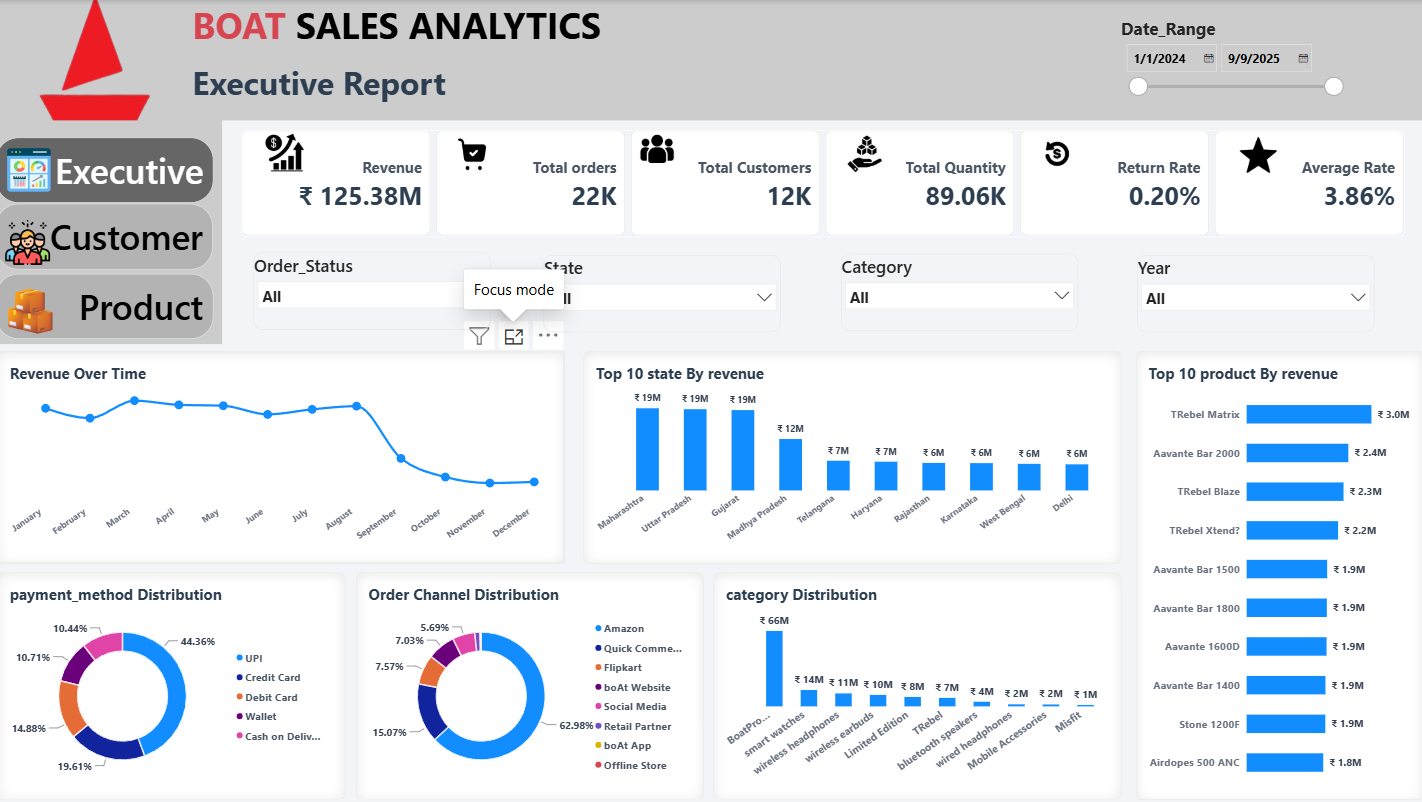

Layout of this report page (visuals, bound fields, positions):
{"tool":"powerbi","page":{"name":"Executive Analysis","canvas":[1920,1080],"ordinal":0},"visuals":[{"type":"shape","box":[14.5,0,1905.6,161.1],"z":0,"group":"g1"},{"type":"cardVisual","fields":{"Data":["Executive KPI's.Revenue","Executive KPI's.Total_order","Executive KPI's.Total_Customer's","Executive KPI's.Total_Qty","Executive KPI's.Return_Rate","Executive KPI's.Avg_Rating"]},"box":[340.2,173.7,1554.5,143],"z":0},{"type":"actionButton","box":[12.7,365.6,290,87],"z":0,"group":"g2"},{"type":"group","id":"g1","title":"Group 1","box":[14.5,0,1905.6,459.7],"z":1000},{"type":"shape","box":[14.5,0,300.4,459.7],"z":1000,"group":"g1"},{"type":"actionButton","box":[13.1,183.1,290,87],"z":1000,"group":"g2"},{"type":"image","box":[14.5,0,260.6,161.1],"z":2000,"group":"g1"},{"type":"image","box":[21,196.9,71,59.8],"z":2000,"group":"g2"},{"type":"lineChart","title":"Revenue Over Time","fields":{"Y":["Executive KPI's.Revenue"],"Category":["Calendar.Month"]},"box":[14.5,468.7,758.2,284.1],"z":2000},{"type":"image","box":[18.7,293.3,71,59.8],"z":3000,"group":"g2"},{"type":"clusteredColumnChart","title":"category Distribution","fields":{"Category":["Product.category"],"Y":["Executive KPI's.Revenue"]},"box":[971.8,765.5,544.7,304],"z":3000},{"type":"image","box":[18.7,384.9,78.5,59.8],"z":4000,"group":"g2"},{"type":"clusteredBarChart","title":"Top 10 product By revenue","fields":{"Category":["Product.product_name"],"Y":["Executive KPI's.Revenue"]},"box":[1536.4,468.7,383.6,600.8],"z":4000},{"type":"clusteredColumnChart","title":"Top 10 state By revenue","fields":{"Category":["Boat Customer.state"],"Y":["Executive KPI's.Revenue"]},"box":[798.1,468.7,718.4,284.1],"z":5000},{"type":"donutChart","title":"payment_method Distribution","fields":{"Y":["Executive KPI's.Revenue"],"Category":["Order_Boat.payment_method"]},"box":[14.5,765.5,465.1,304],"z":6000},{"type":"donutChart","title":"Order Channel Distribution","fields":{"Y":["Executive KPI's.Revenue"],"Category":["Order_Boat.Order_Channel"]},"box":[494,765.5,465.1,304],"z":7000},{"type":"textbox","box":[275.1,0,608,94.1],"z":8000},{"type":"textbox","box":[275.1,79.6,608,94.1],"z":9000},{"type":"image","box":[608,181,83,50],"z":10000},{"type":"image","box":[356.5,179.2,83.2,50.7],"z":11000},{"type":"image","box":[854.2,173.7,83,50],"z":12000},{"type":"image","box":[1132.8,181,83,50],"z":13000},{"type":"image","box":[1389.8,181,83,50],"z":14000},{"type":"image","box":[1657.6,182.8,83,50],"z":15000},{"type":"actionButton","box":[13.1,272.7,289.6,87.8],"z":16000},{"type":"slicer","title":"Date_Range","fields":{"Values":["Calendar.Date"]},"box":[1516.9,22.4,300.8,115.8],"z":17000},{"type":"group","id":"g2","title":"Group 2","box":[12.7,183.1,290.4,269.5],"z":18000},{"type":"slicer","title":"Order_Status","fields":{"Values":["Order_Boat.order_status"]},"box":[356.5,336.6,316.7,103.2],"z":19000},{"type":"slicer","title":"State","fields":{"Values":["Boat Customer.state"]},"box":[744.4,340.2,316.7,103.2],"z":20000},{"type":"slicer","title":"Category","fields":{"Values":["Product.category"]},"box":[1141.3,338.4,316.7,103.2],"z":21000},{"type":"slicer","title":"Year","fields":{"Values":["Calendar.Year"]},"box":[1538.2,340.2,316.7,103.2],"z":22000}]}

Visuals, with their boxes in screenshot pixels (x1, y1, x2, y2), scaled from the page's 1920x1080 canvas onto the 1422x802 screenshot:
shape: (11, 0, 1421, 120)
cardVisual - Executive KPI's.Revenue x Executive KPI's.Total_order: (252, 129, 1403, 235)
actionButton: (9, 271, 224, 336)
"Group 1" group: (11, 0, 1421, 341)
shape: (11, 0, 233, 341)
actionButton: (10, 136, 224, 201)
image: (11, 0, 204, 120)
image: (16, 146, 68, 191)
"Revenue Over Time" lineChart: (11, 348, 572, 559)
image: (14, 218, 66, 262)
"category Distribution" clusteredColumnChart: (720, 568, 1123, 794)
image: (14, 286, 72, 330)
"Top 10 product By revenue" clusteredBarChart: (1138, 348, 1421, 794)
"Top 10 state By revenue" clusteredColumnChart: (591, 348, 1123, 559)
"payment_method Distribution" donutChart: (11, 568, 355, 794)
"Order Channel Distribution" donutChart: (366, 568, 710, 794)
textbox: (204, 0, 654, 70)
textbox: (204, 59, 654, 129)
image: (450, 134, 512, 172)
image: (264, 133, 326, 171)
image: (633, 129, 694, 166)
image: (839, 134, 900, 172)
image: (1029, 134, 1091, 172)
image: (1228, 136, 1289, 173)
actionButton: (10, 203, 224, 268)
"Date_Range" slicer: (1123, 17, 1346, 103)
"Group 2" group: (9, 136, 224, 336)
"Order_Status" slicer: (264, 250, 499, 327)
"State" slicer: (551, 253, 786, 329)
"Category" slicer: (845, 251, 1080, 328)
"Year" slicer: (1139, 253, 1374, 329)
